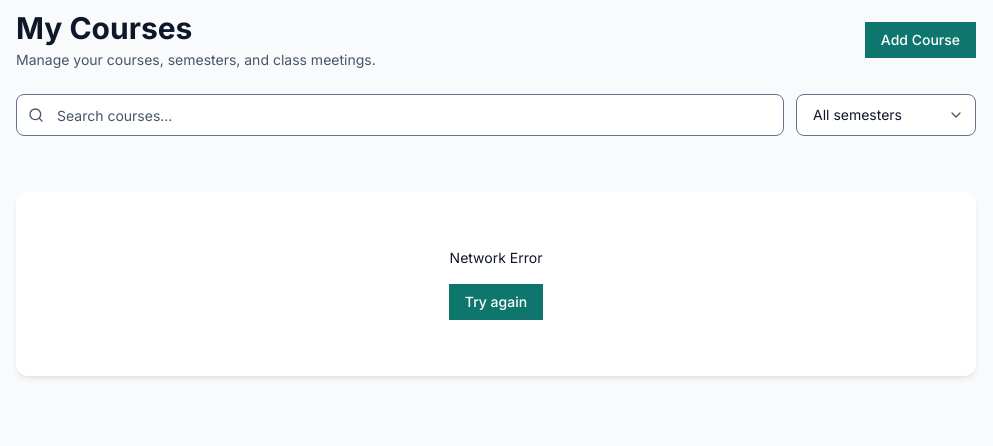
it: CoursesPage list (AC 1, AC 2) › shows an actionable error with a retry that re-reads the list (DoD 5)
Expected: the message "Network Error Try again" is shown, [449, 249, 543, 320]
Click the button "Try again" at (496, 302), box [449, 284, 543, 320]
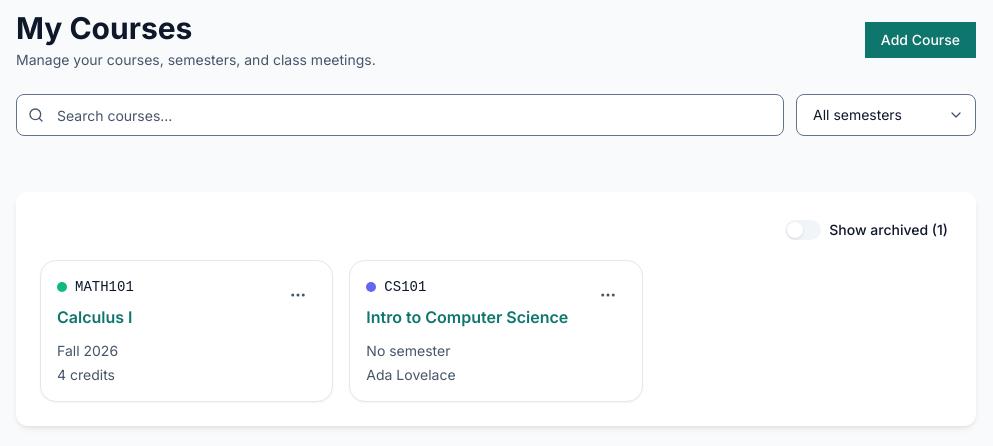
Result: the number of list items is 2 at [40, 260, 333, 402]; [349, 260, 643, 402]
